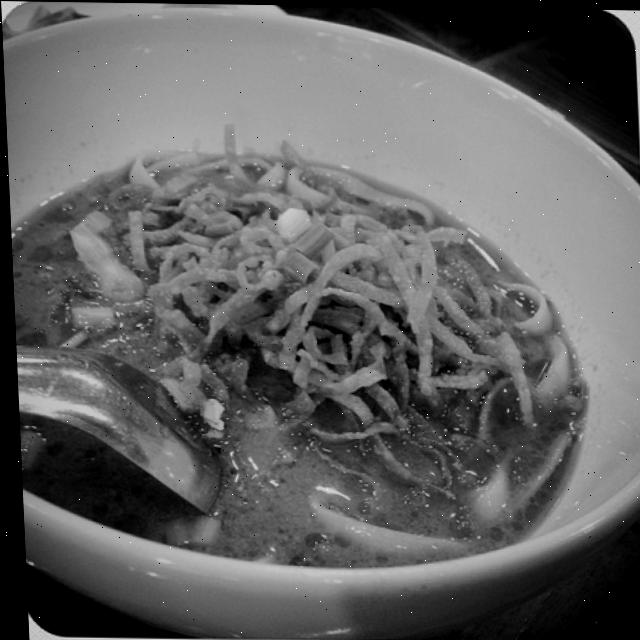面条主食: (1, 32, 639, 634)
